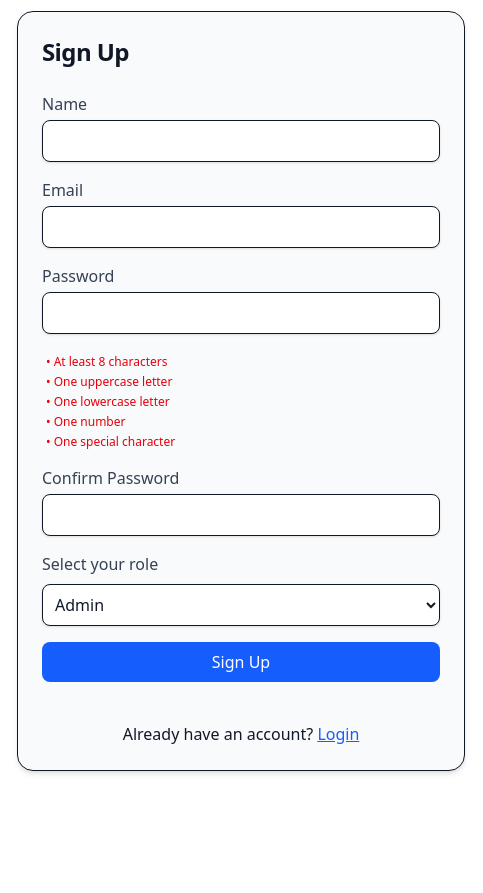
Test: Register Page - unit tests (validation & UI) › should show error when password is too short
The width and height of the screenshot is (483, 893).
Type "aB1!" into the password field labelled "Password".
click(241, 313); type("aB1!")  # box [42,292,440,334]
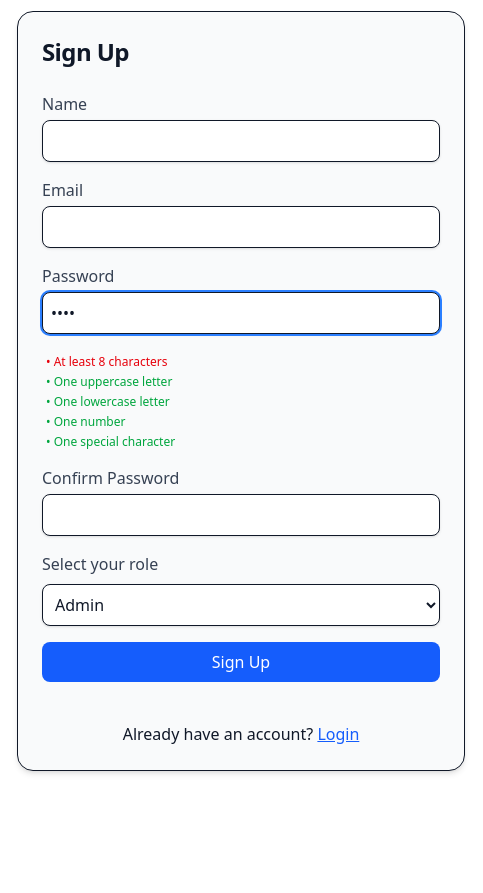
Click the button "Sign Up".
click(241, 662)  # box [42,642,440,682]
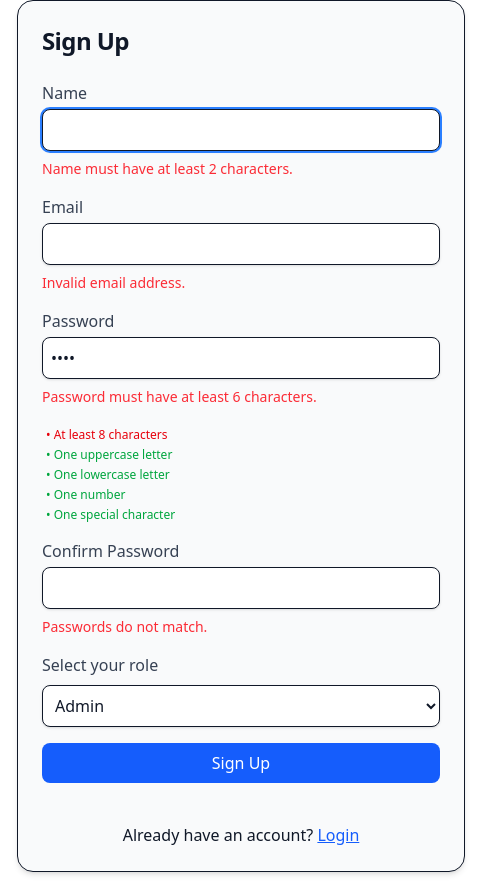
expect the text "Password must have at least 6 characters." is shown: met, box [42,387,317,406]
